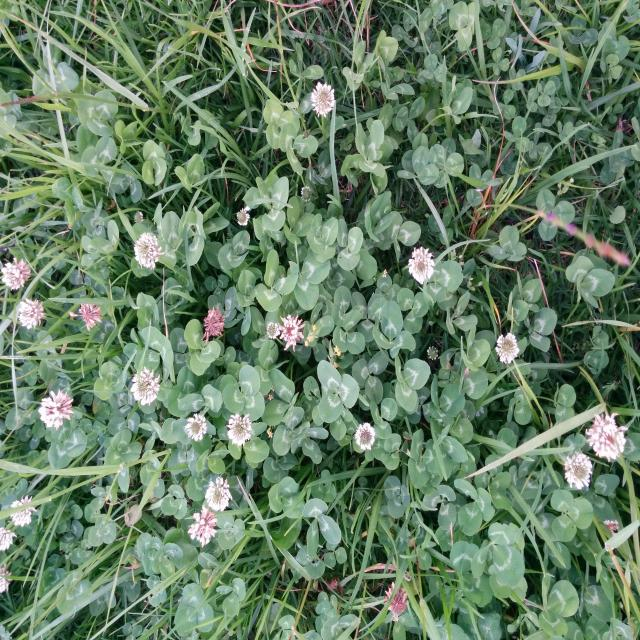Four Leaf Clover: (306, 213, 338, 263)
